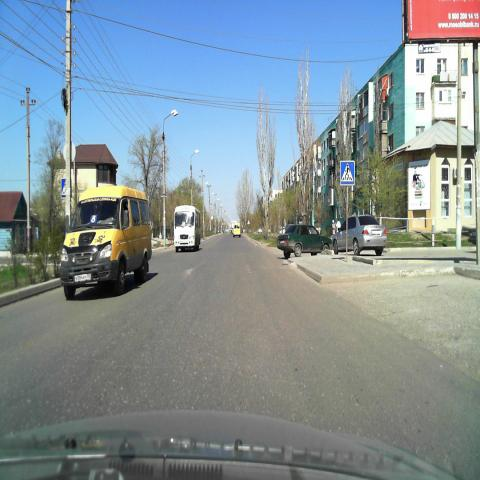5_19_1: (340, 160, 355, 186)
